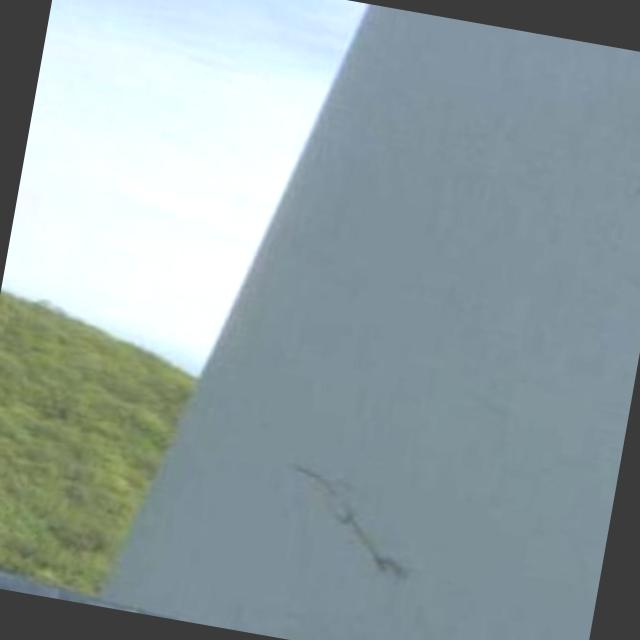crack: (292, 470, 408, 576)
